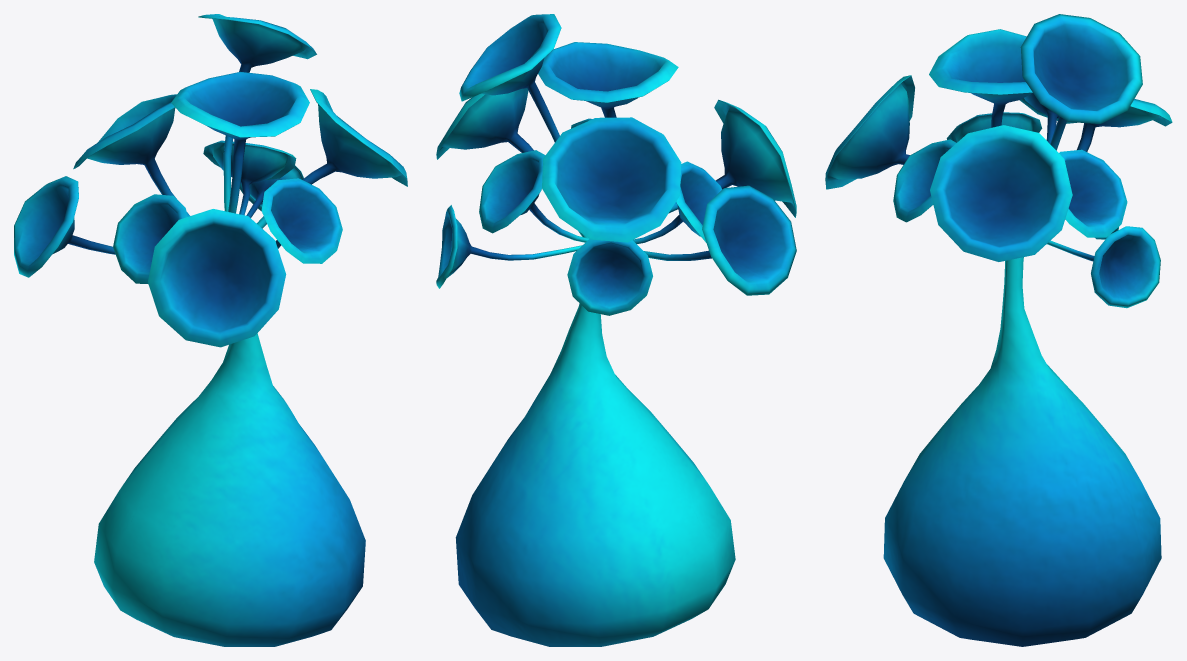
Rendered from Cartoon Seaweed_13-2-13.fbx.
3 views of the same model, side by side, from view 1: azimuth 30°, elevation 25°; view 2: azimuth 150°, elevation 25°; view 3: azimuth 270°, elevation 25° (orthographic). The views are drawn at different scales.
Parts seen in each view (by area): view 1: Cartoon Seaweed_13.2.13; view 2: Cartoon Seaweed_13.2.13; view 3: Cartoon Seaweed_13.2.13.
Part boxes in pixels (<box>): Cartoon Seaweed_13.2.13: <box>14,14,407,646</box>; Cartoon Seaweed_13.2.13: <box>436,14,796,646</box>; Cartoon Seaweed_13.2.13: <box>825,14,1172,646</box>.
Size of the model in its own units: 21.54 by 34.78 by 18.06.
1 material, 1 textured.
